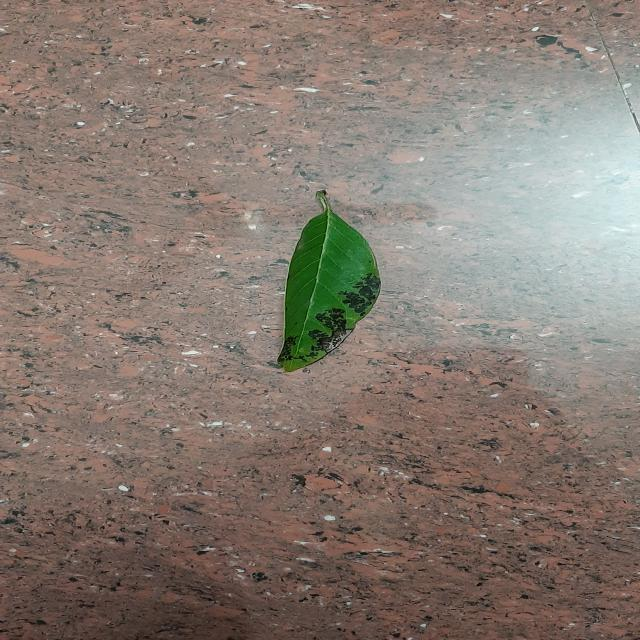leaf spot: (276, 191, 379, 371)
